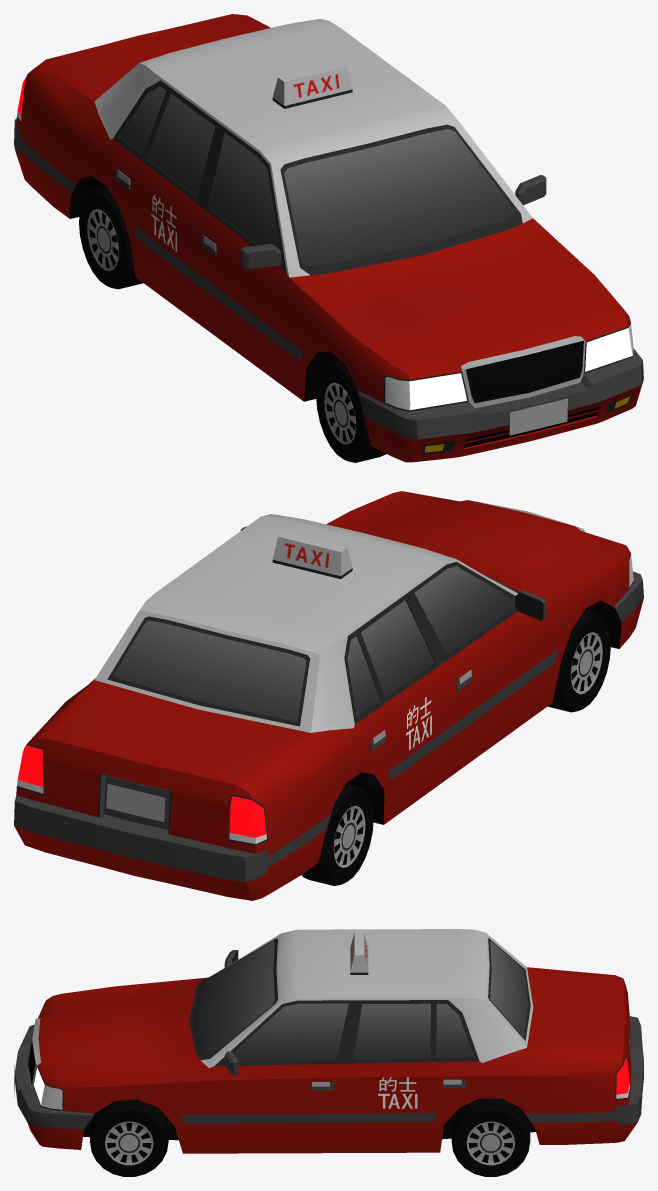
File: car-taxi.glb
The picture shows the model from 3 angles, top to bottom: view 1: azimuth 30°, elevation 25°; view 2: azimuth 150°, elevation 25°; view 3: azimuth 270°, elevation 25°; orthographic projection. The views are drawn at different scales.
Parts seen in each view (by area): view 1: Body_Cube_Material_0, Cylinder.003_Material_0, Cylinder.002_Material_0, Body_Cube_Material.008_0; view 2: Body_Cube_Material_0, Cylinder.003_Material_0, Cylinder.002_Material_0, Body_Cube_Material.010_0; view 3: Body_Cube_Material_0, Cylinder.001_Material_0, Cylinder_Material_0, Body_Cube_Material.010_0.
Part boxes in pixels (box(x1,y1,x2,y2)): Body_Cube_Material_0: box(14, 14, 643, 462); Cylinder.003_Material_0: box(79, 186, 143, 289); Cylinder.002_Material_0: box(316, 360, 386, 462); Body_Cube_Material.008_0: box(409, 328, 632, 409); Body_Cube_Material_0: box(14, 491, 643, 900); Cylinder.003_Material_0: box(302, 783, 373, 885); Cylinder.002_Material_0: box(548, 610, 610, 712); Body_Cube_Material.010_0: box(17, 745, 266, 837); Body_Cube_Material_0: box(14, 929, 643, 1153); Cylinder.001_Material_0: box(451, 1098, 530, 1176); Cylinder_Material_0: box(90, 1099, 168, 1176); Body_Cube_Material.010_0: box(616, 985, 629, 1094).
Bounding box in the file's own units: 1.95 × 1.52 × 4.6.
3 materials, 1 textured.
